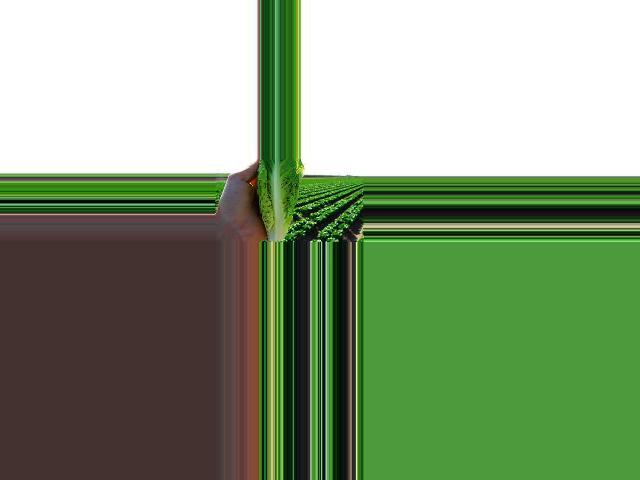lettuce: (257, 161, 301, 243)
